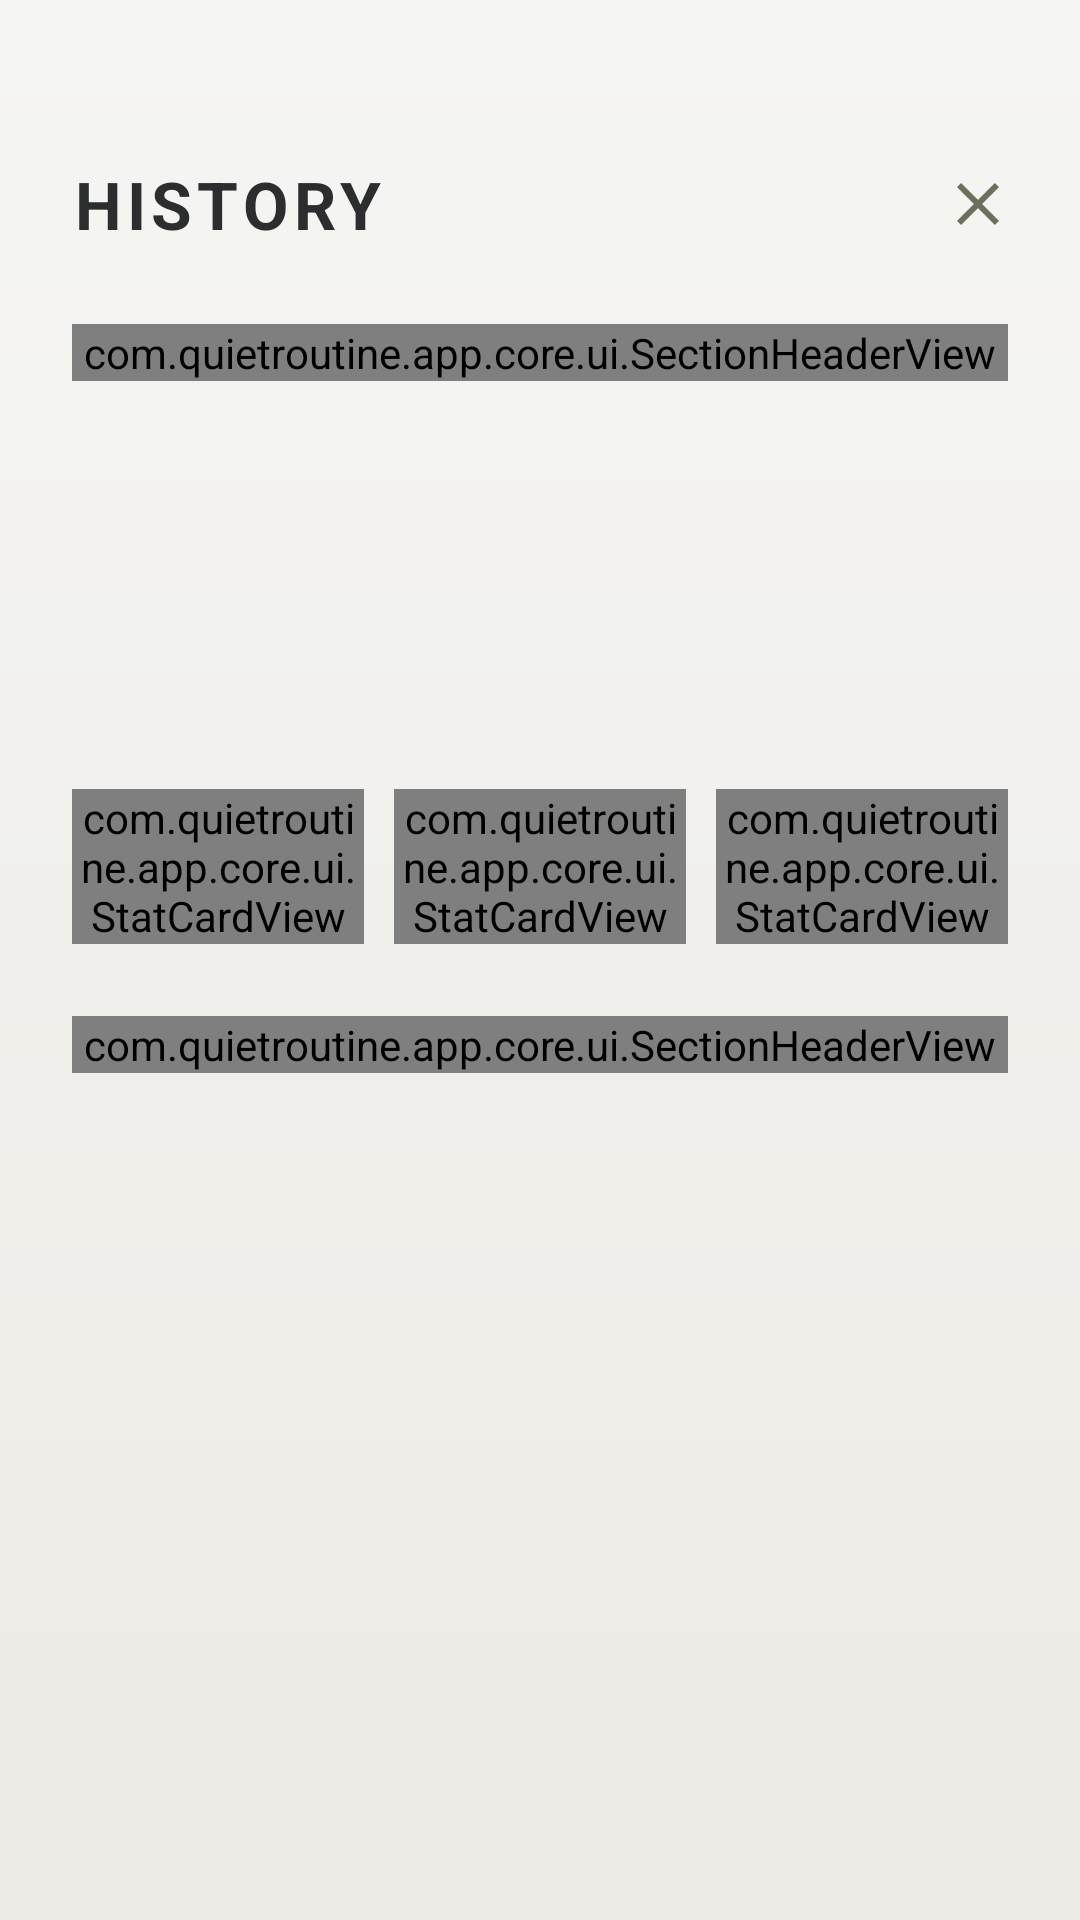

Screen size 1080 × 1920. Icon name, then its center in pixels as (x=x, y=y):
Close: (x=978, y=204)
